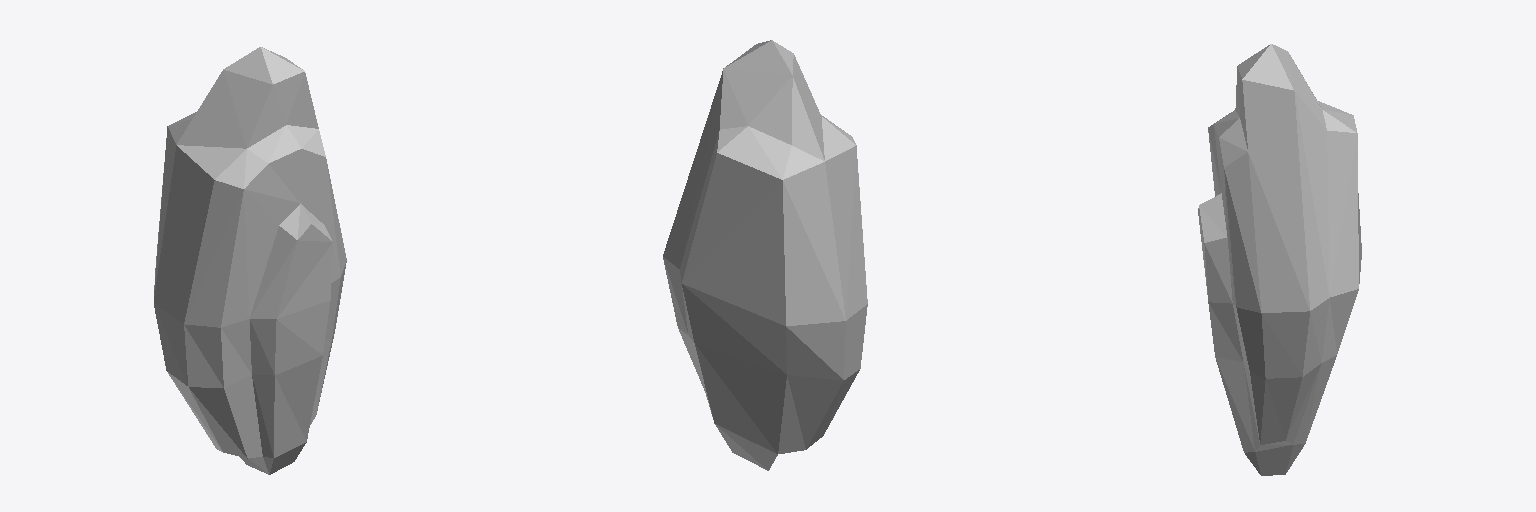
File: Rock02_lava.obj
3 renders of one model, left to right at view 1: azimuth 30°, elevation 25°; view 2: azimuth 150°, elevation 25°; view 3: azimuth 270°, elevation 25°, orthographic.
Parts seen in each view (by area): view 1: Rock02_lava; view 2: Rock02_lava; view 3: Rock02_lava.
Part boxes in pixels (x1,y1,x2,y2): Rock02_lava: (154,47,346,474); Rock02_lava: (663,40,867,470); Rock02_lava: (1198,44,1361,475).
Size of the model in its own units: 164 by 369 by 129.